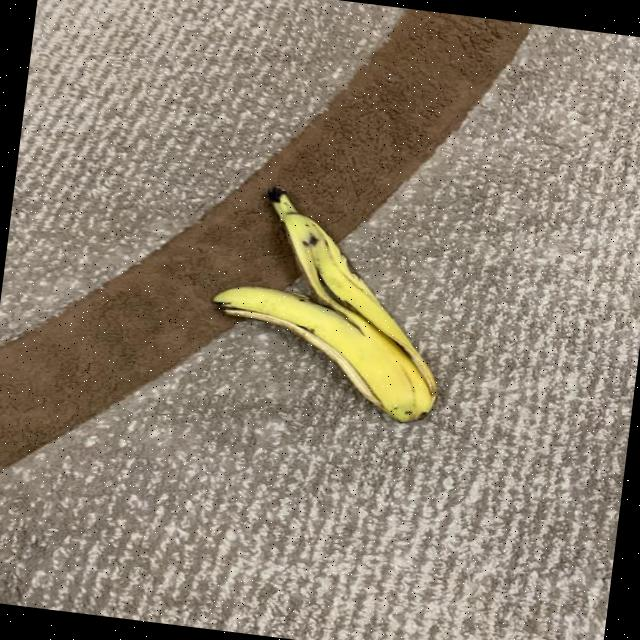banana-peel: (199, 178, 461, 426)
